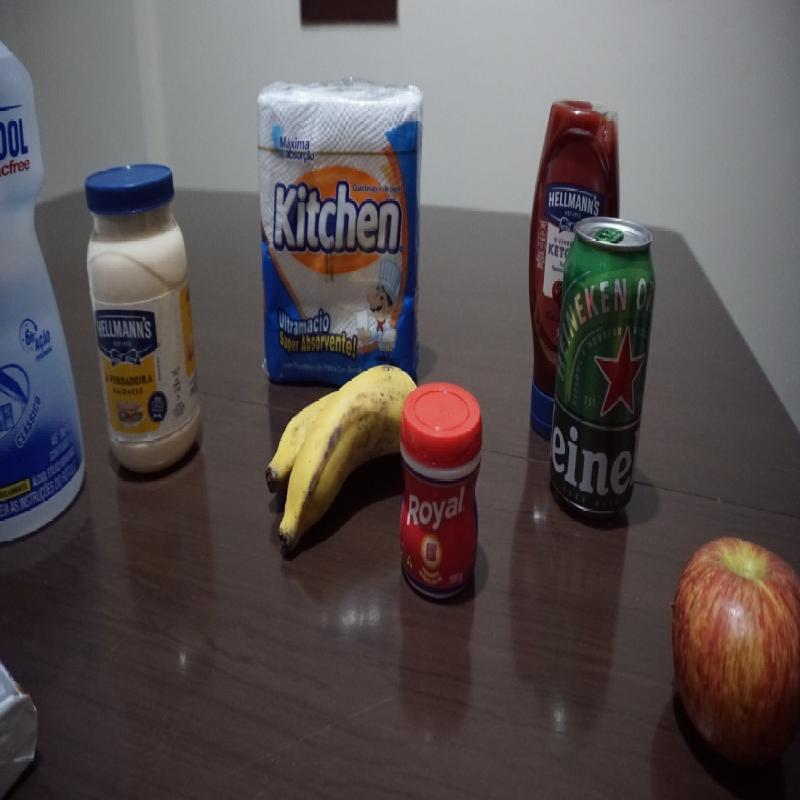Alcohol Bottle: (1, 41, 87, 552)
Apple: (672, 528, 798, 764)
Banana: (266, 372, 398, 558)
Beer can: (554, 222, 654, 516)
Ketchup: (533, 92, 624, 212)
Mayonnaise: (87, 164, 201, 478)
Napkin: (256, 76, 418, 362)
Yeast: (401, 383, 481, 601)
